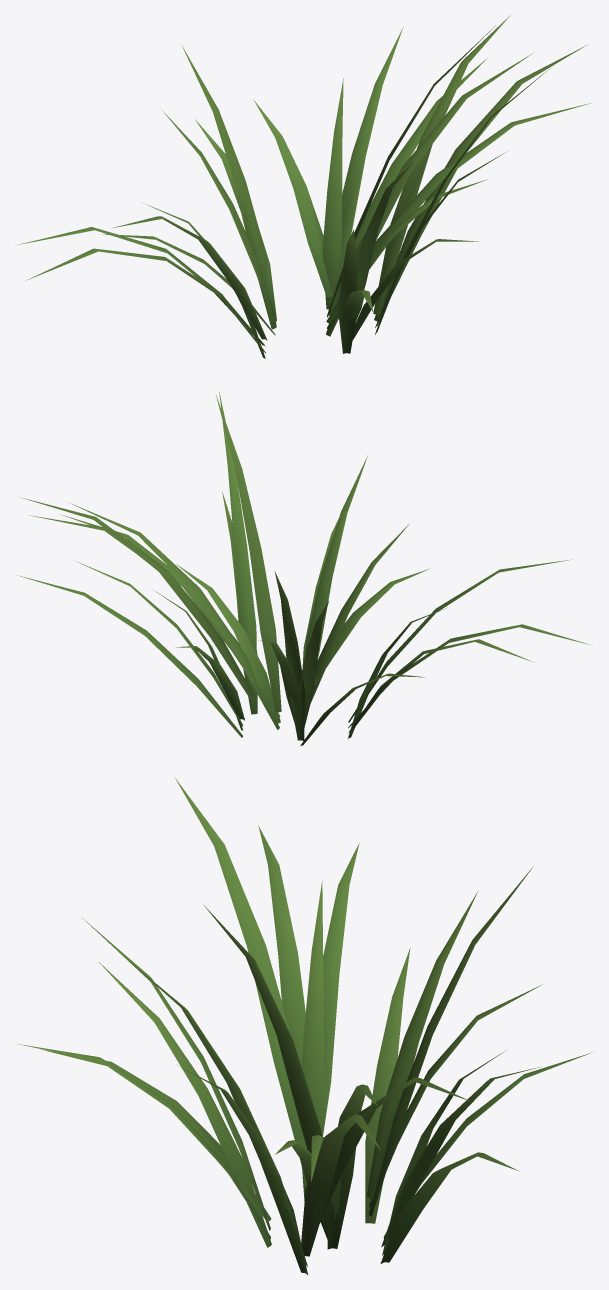
Rendered from crop_grain_s1.glb.
3 views of the same model, one above another, from view 1: azimuth 30°, elevation 25°; view 2: azimuth 150°, elevation 25°; view 3: azimuth 270°, elevation 25° (orthographic). The views are drawn at different scales.
Parts seen in each view (by area): view 1: Crop_Grain_S1; view 2: Crop_Grain_S1; view 3: Crop_Grain_S1.
Boxes of the visible parts, <box> form: Crop_Grain_S1: <box>16,15,591,358</box>; Crop_Grain_S1: <box>17,390,591,745</box>; Crop_Grain_S1: <box>17,778,591,1274</box>.
Bounding box in the file's own units: 0.5032 × 0.2497 × 0.3092.
